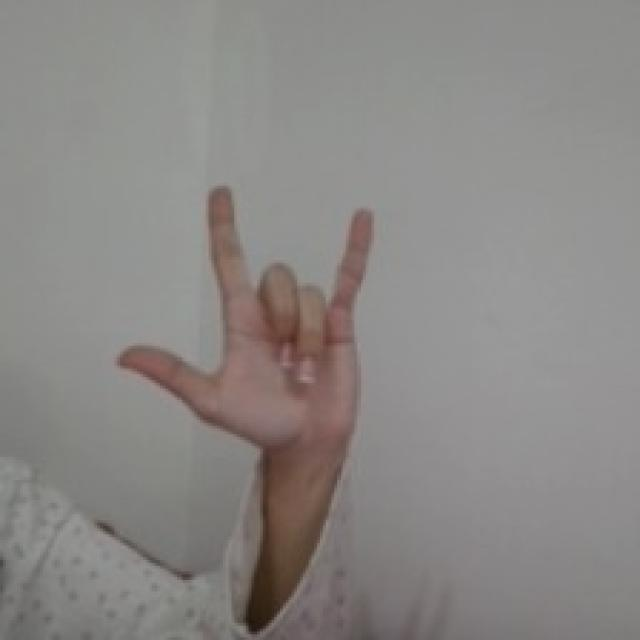love: (112, 181, 380, 460)
